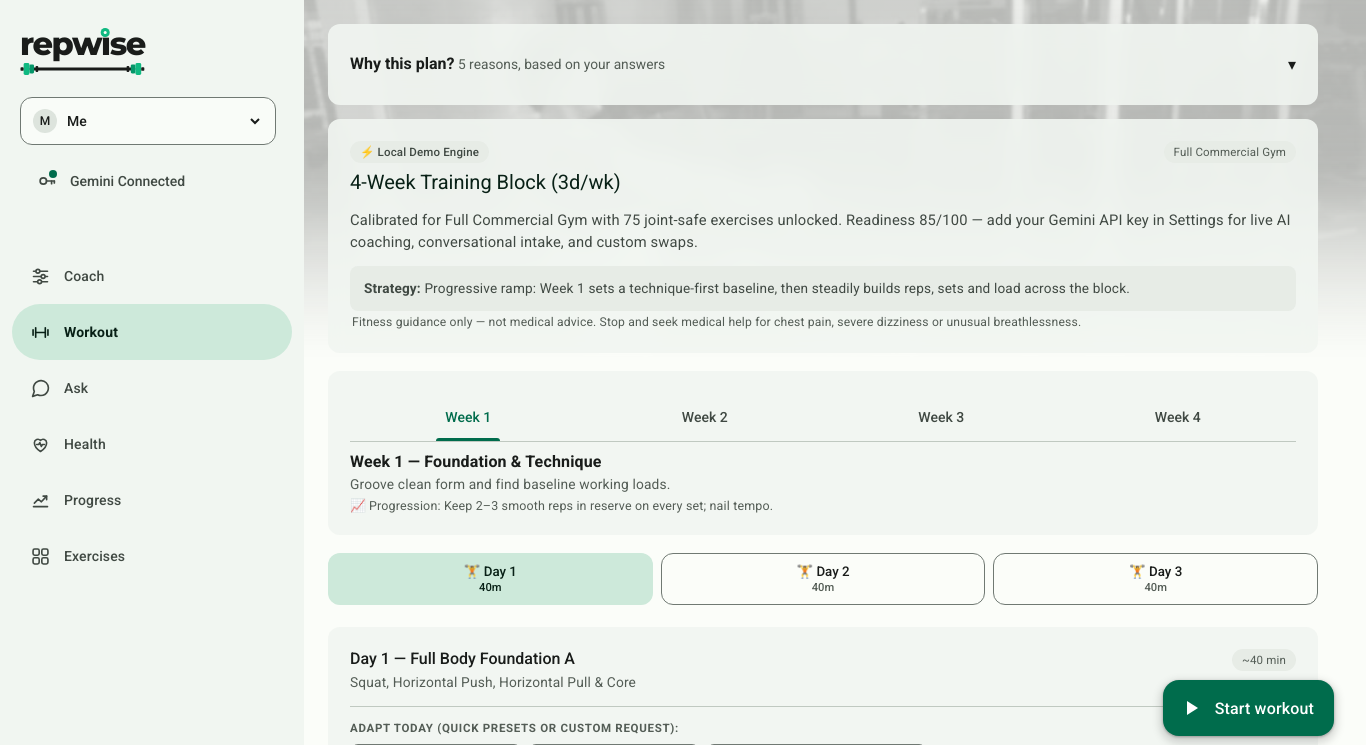
Test: Ask Your Coach › sends the question with profile/plan/log context and keeps the conversation
Click the button "Ask": (40, 388) x1=12 y1=360 x2=292 y2=416
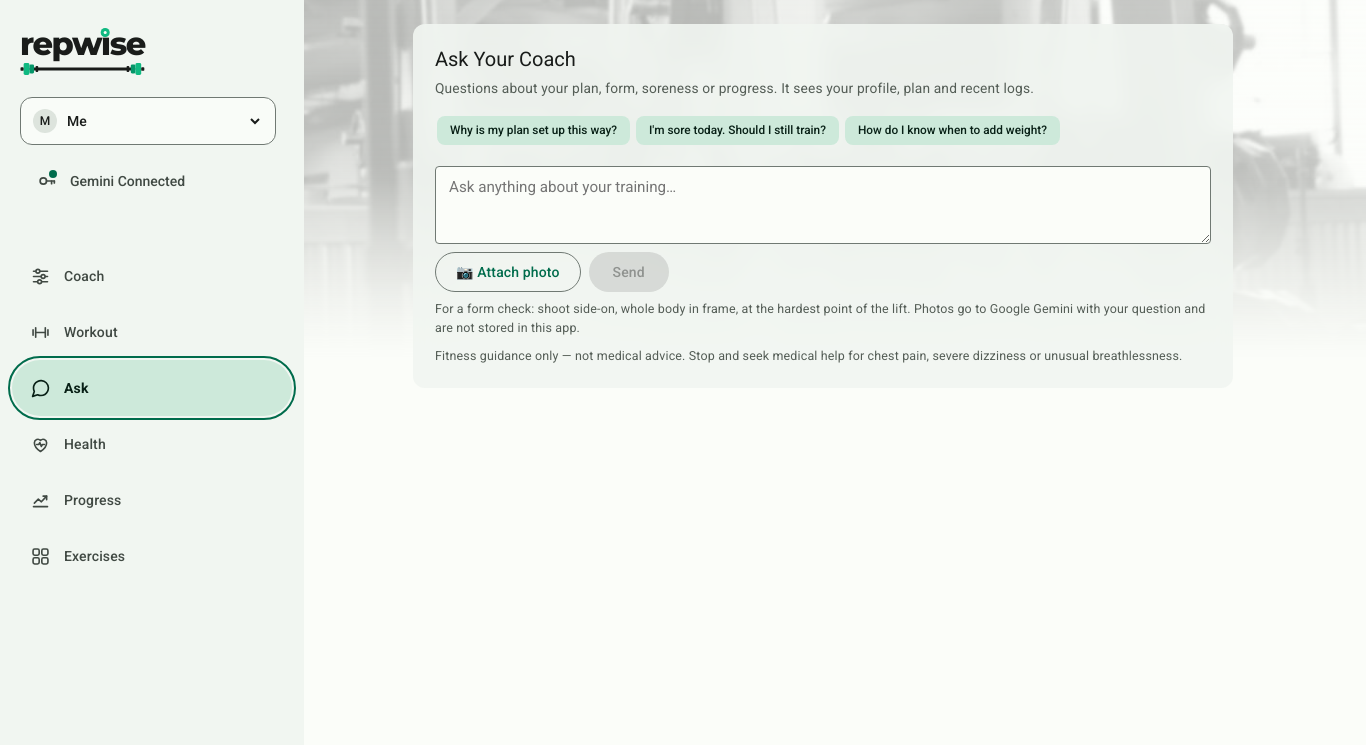
In the text box named "Your question": (823, 205) x1=435 y1=166 x2=1211 y2=244, type "Should I train sore?"
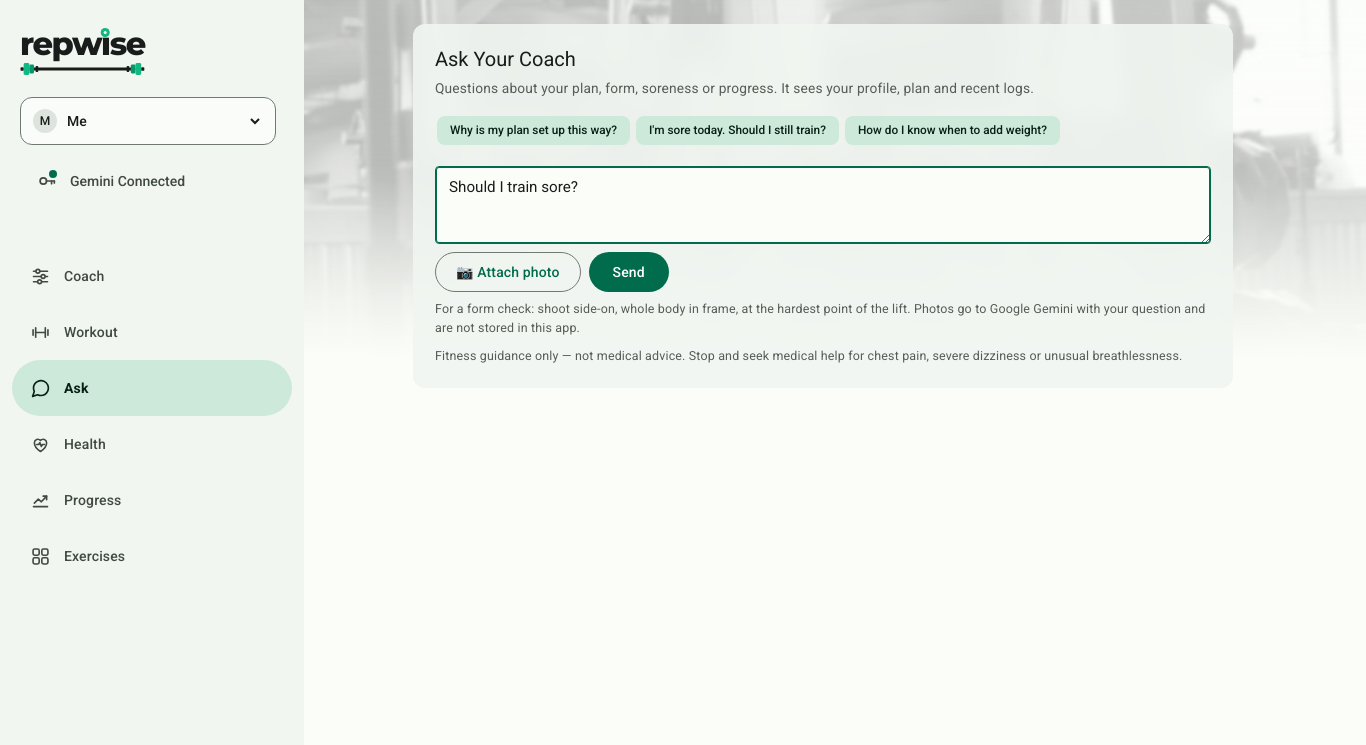
Click the button "Send": (629, 272) x1=588 y1=252 x2=669 y2=292
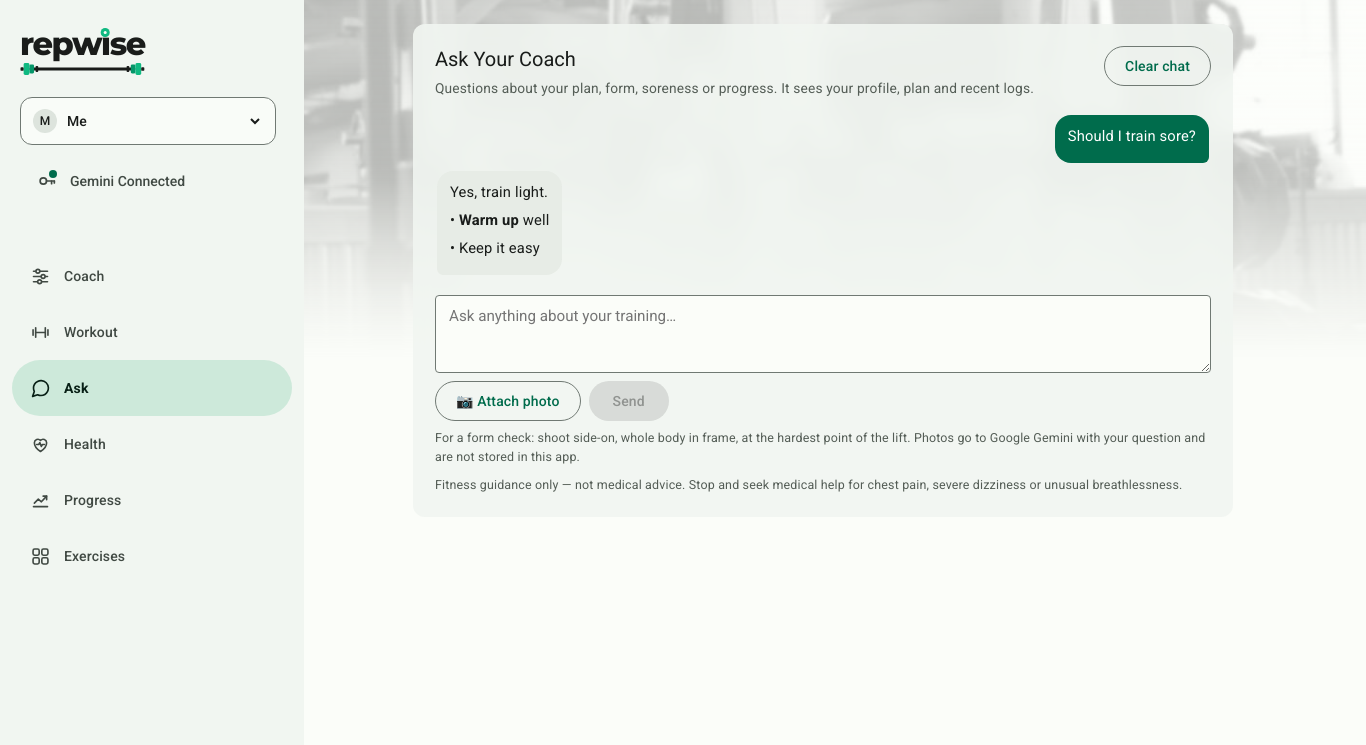
Now the text "Yes, train light." is shown, box x1=450 y1=181 x2=549 y2=203
In the text box named "Your question": (823, 334) x1=435 y1=295 x2=1211 y2=373, type "And tomorrow?"
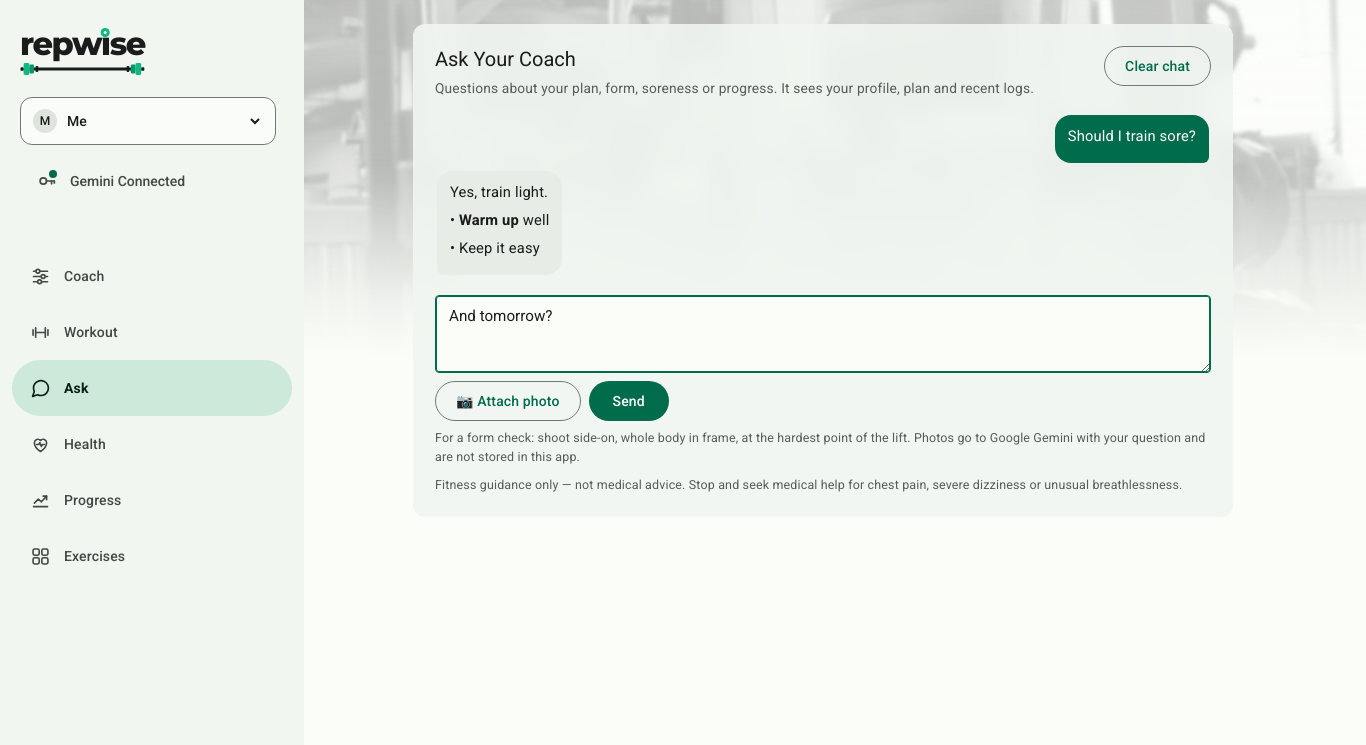
Click the button "Send": (629, 401) x1=588 y1=381 x2=669 y2=421
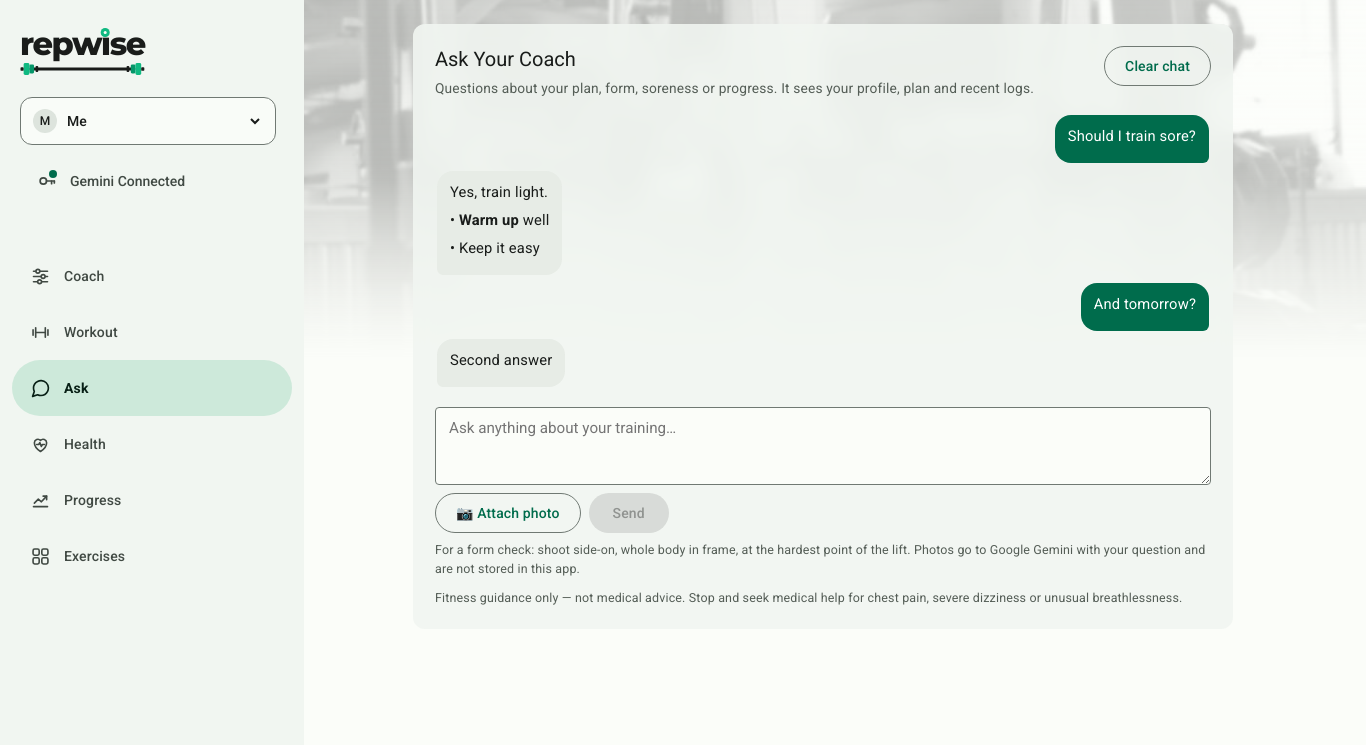
Now the text "Second answer" is shown, box x1=450 y1=349 x2=552 y2=371
